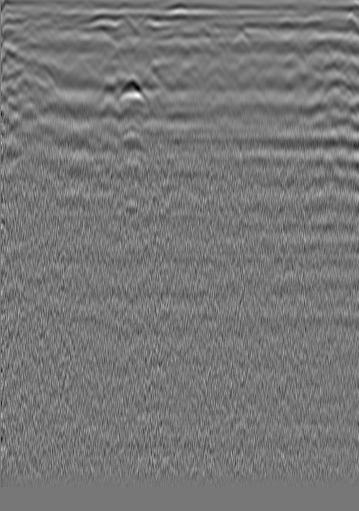가스: (112, 128, 149, 162)
상수: (305, 17, 325, 37)
오수: (15, 15, 35, 35)
우수: (167, 20, 187, 40)
